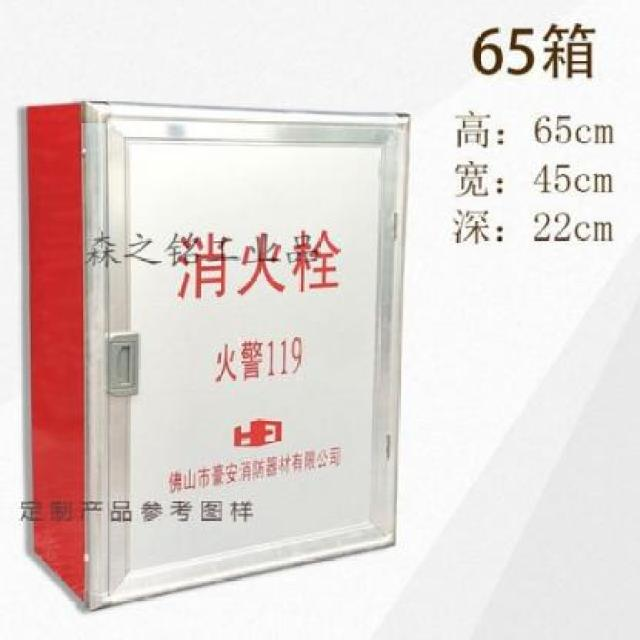firehydrant: (20, 94, 416, 620)
